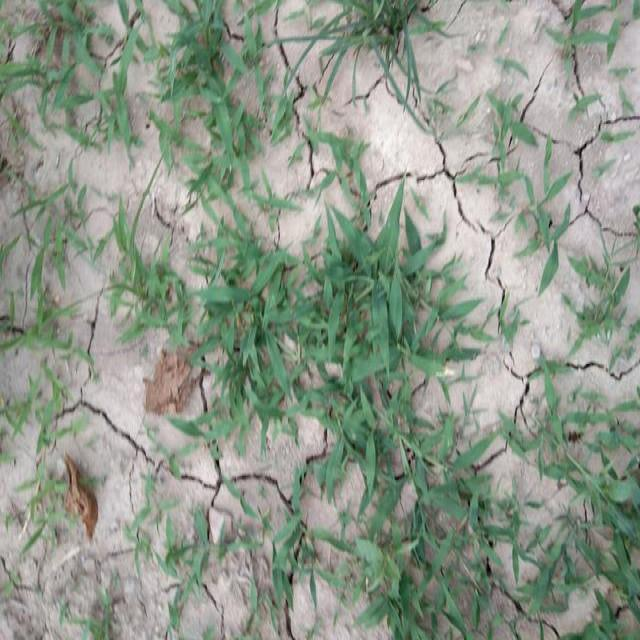weed: (186, 224, 450, 440), (337, 377, 486, 640), (165, 0, 258, 185), (294, 0, 421, 104)
